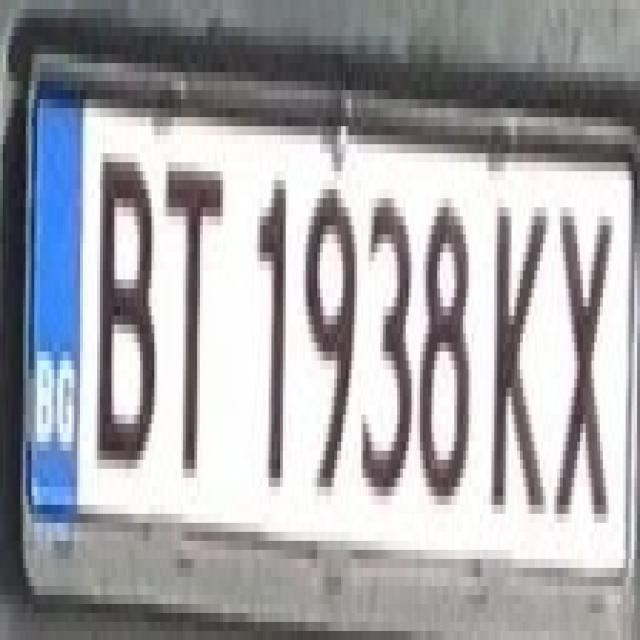1: (240, 144, 292, 487)
3: (357, 180, 414, 496)
8: (412, 180, 468, 487)
9: (288, 162, 363, 487)
B: (88, 126, 160, 460)
K: (474, 171, 554, 514)
T: (163, 153, 226, 478)
X: (540, 189, 617, 523)
